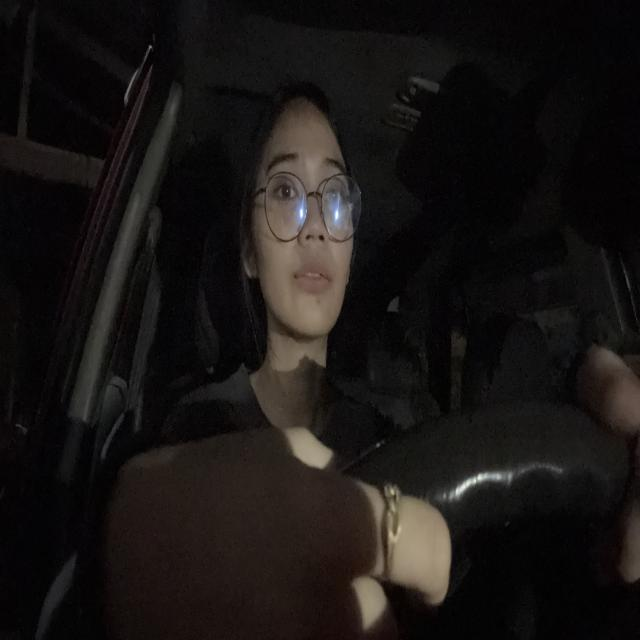open: (262, 147, 306, 212), (320, 154, 352, 216)
